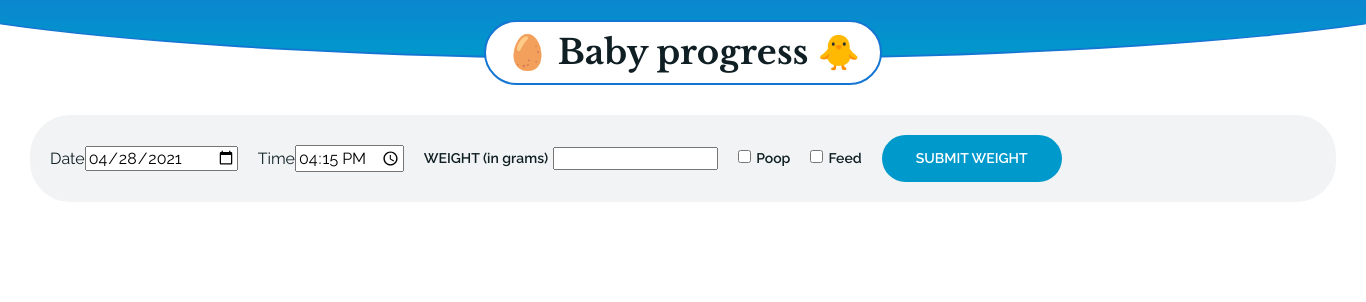
Page › adds a specific time to new line
This screenshot has width=1366, height=302.
Step 1. Type "20:30" into the time field labelled "Time" → coordinates (349, 158), box [295,145,404,172]
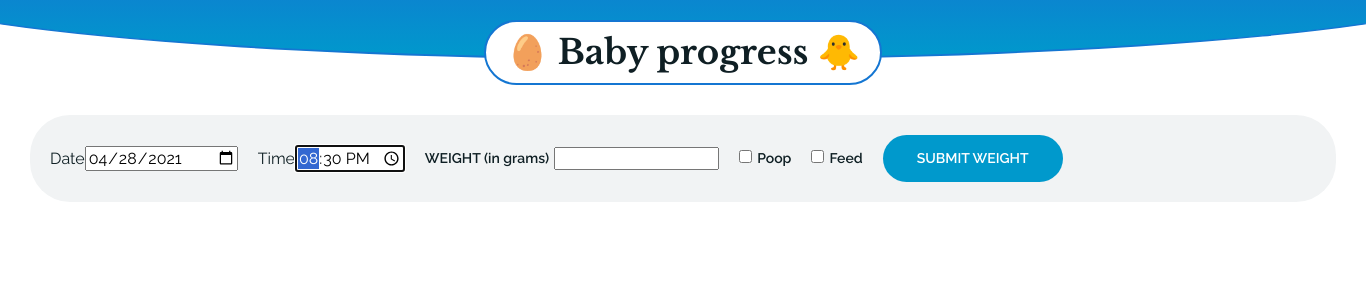
Step 2. Type "2100" into the number field → coordinates (637, 158), box [554,147,719,170]
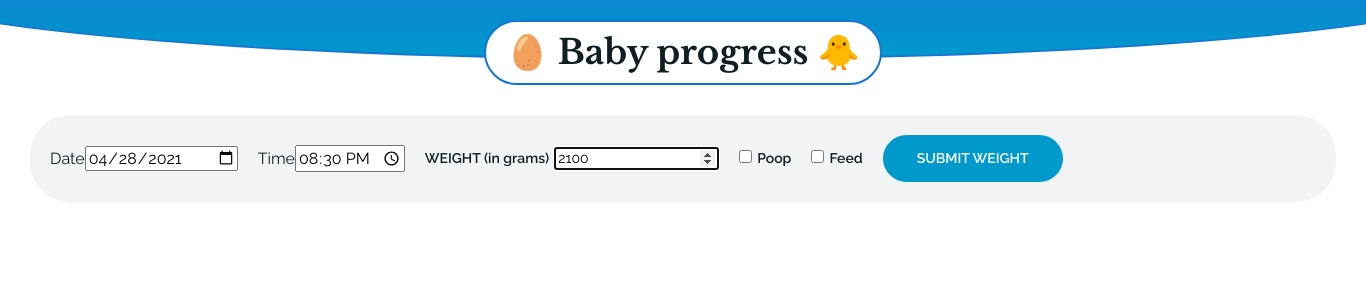
Step 3. Click the button "Submit weight" → coordinates (973, 158), box [883,135,1063,182]
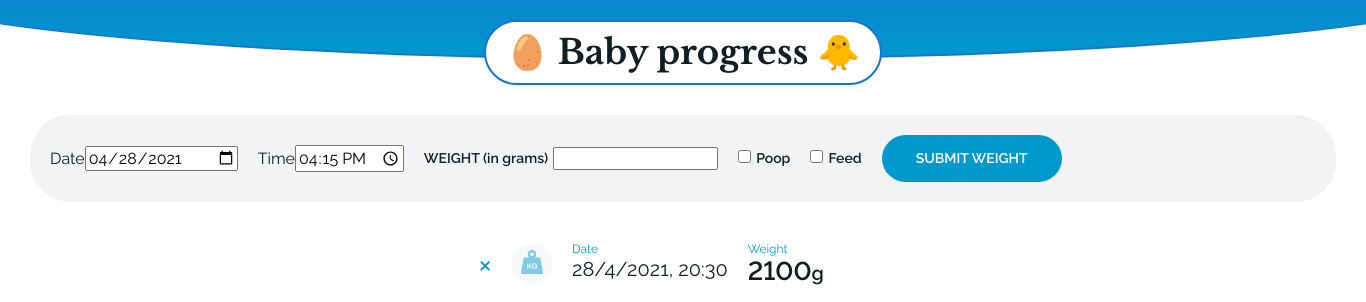
Expected: the text "28/4/2021, 20:30" is shown, [572,256,728,282]
